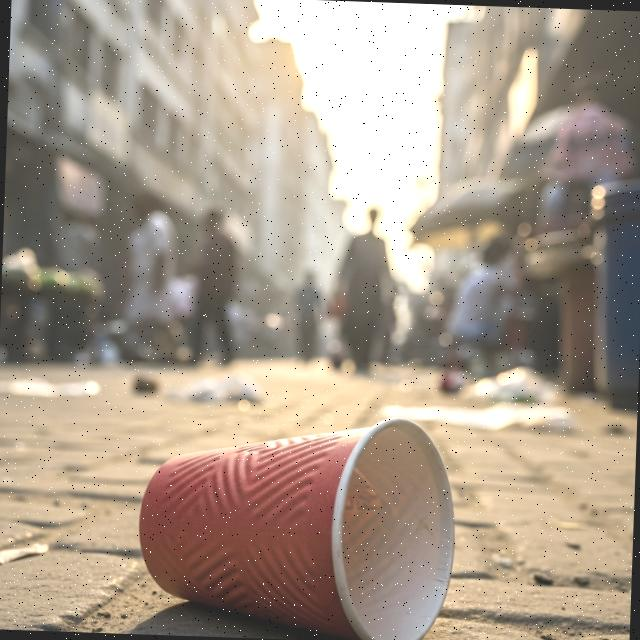paper: (132, 404, 461, 640)
